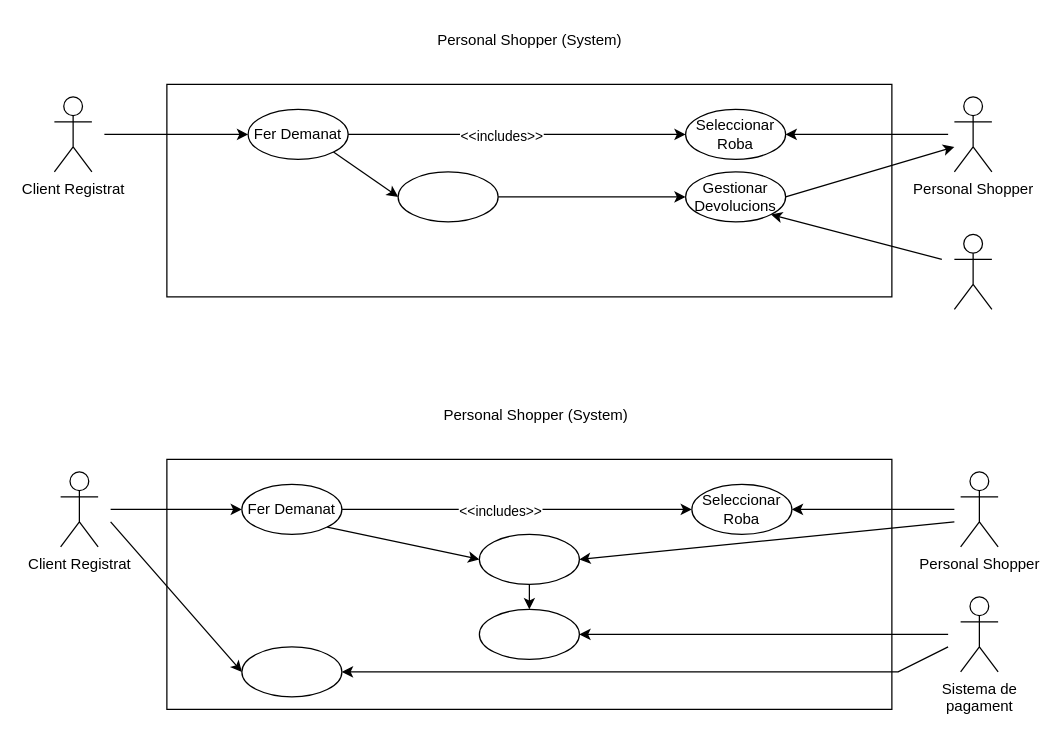
Image size: 1060x738. Some labels were removed from this diagram. Here are the shapes that lost their labels. From the top down, the centre of each, then its label:
At pixel 447 196: "Fer Devolució".
At pixel 972 271: "Gestió de paquets".
At pixel 528 558: "Processar Comanda".
At pixel 528 633: "Processar Pagament".
At pixel 291 671: "Donar alta pagament".
